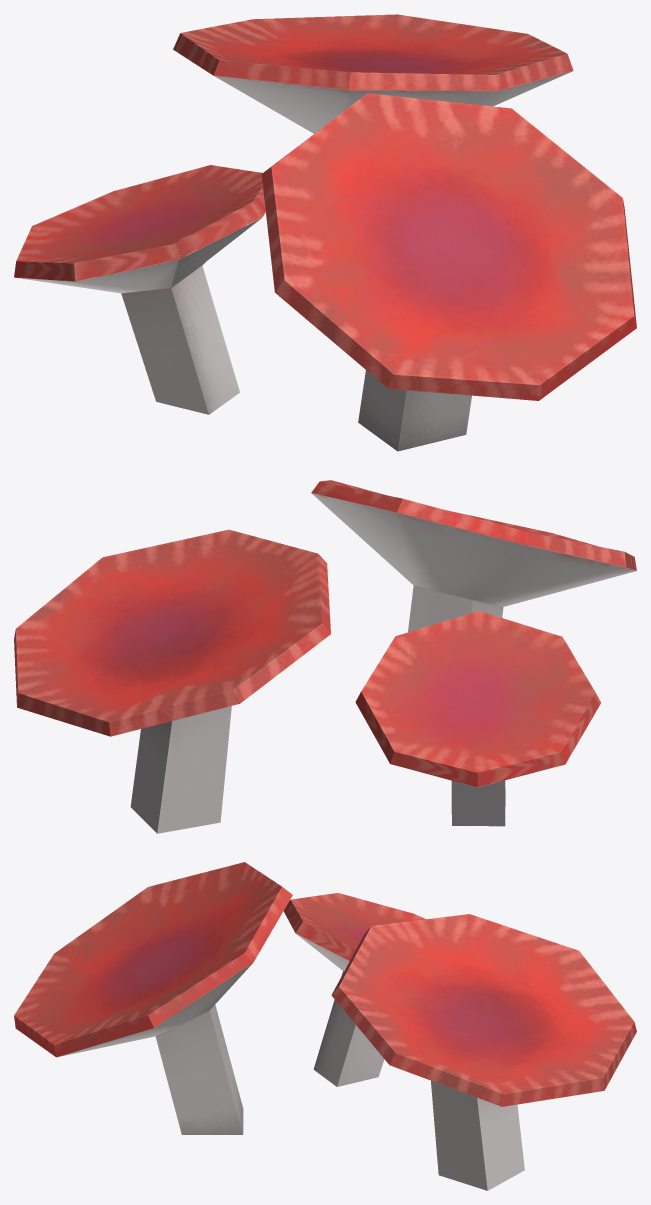
File: Mushroom2.fbx
3 views of the same model, one above another, from view 1: azimuth 30°, elevation 25°; view 2: azimuth 150°, elevation 25°; view 3: azimuth 270°, elevation 25° (orthographic). The views are drawn at different scales.
Parts seen in each view (by area): view 1: Mushroom2; view 2: Mushroom2; view 3: Mushroom2.
Part boxes in pixels (x1,y1,x2,y2): Mushroom2: [14, 14, 636, 451]; Mushroom2: [14, 480, 636, 833]; Mushroom2: [14, 862, 636, 1190].
Size of the model in its own units: 17.75 by 8.9 by 21.35.
